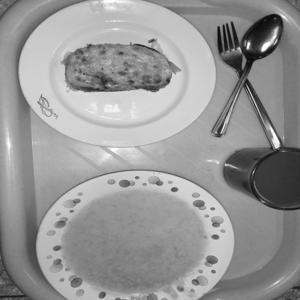cheese_sandwich: (59, 34, 188, 97)
coffee: (213, 131, 299, 216)
porridge: (52, 178, 207, 288)
